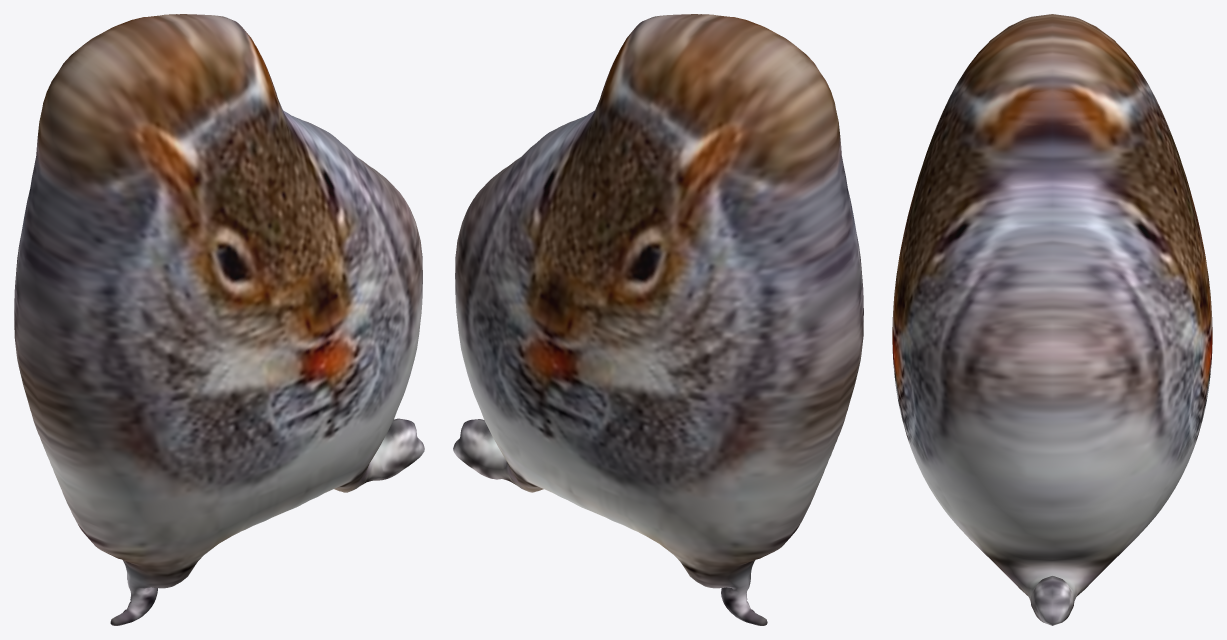
The model's file is asset.glb.
3 views of the same model, side by side, from view 1: azimuth 30°, elevation 25°; view 2: azimuth 150°, elevation 25°; view 3: azimuth 270°, elevation 25° (orthographic). The views are drawn at different scales.
Size of the model in its own units: 3.99 by 5.76 by 2.93.
Materials: 1 (1 with a texture image).
